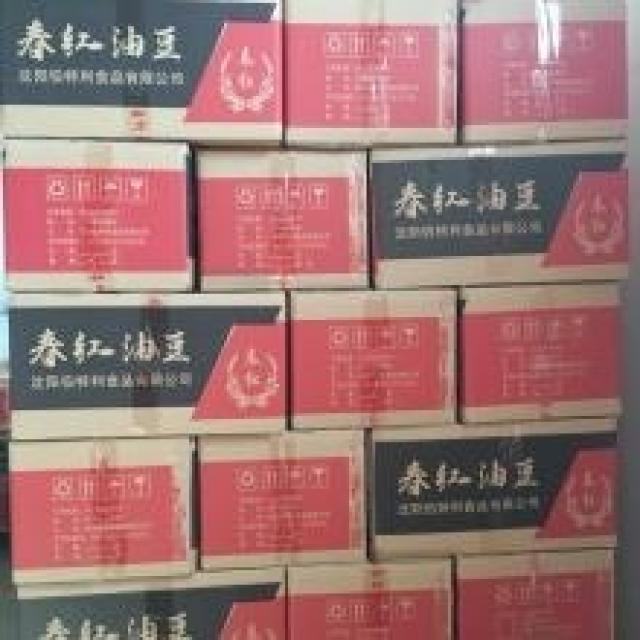box: (6, 288, 285, 442), (369, 137, 631, 291), (369, 419, 620, 561), (0, 140, 198, 294), (9, 436, 201, 582), (285, 0, 460, 148), (195, 148, 369, 291), (460, 0, 631, 145), (198, 431, 372, 573), (291, 288, 460, 433), (460, 282, 625, 422), (17, 570, 288, 640), (457, 550, 614, 640), (288, 559, 454, 640)
